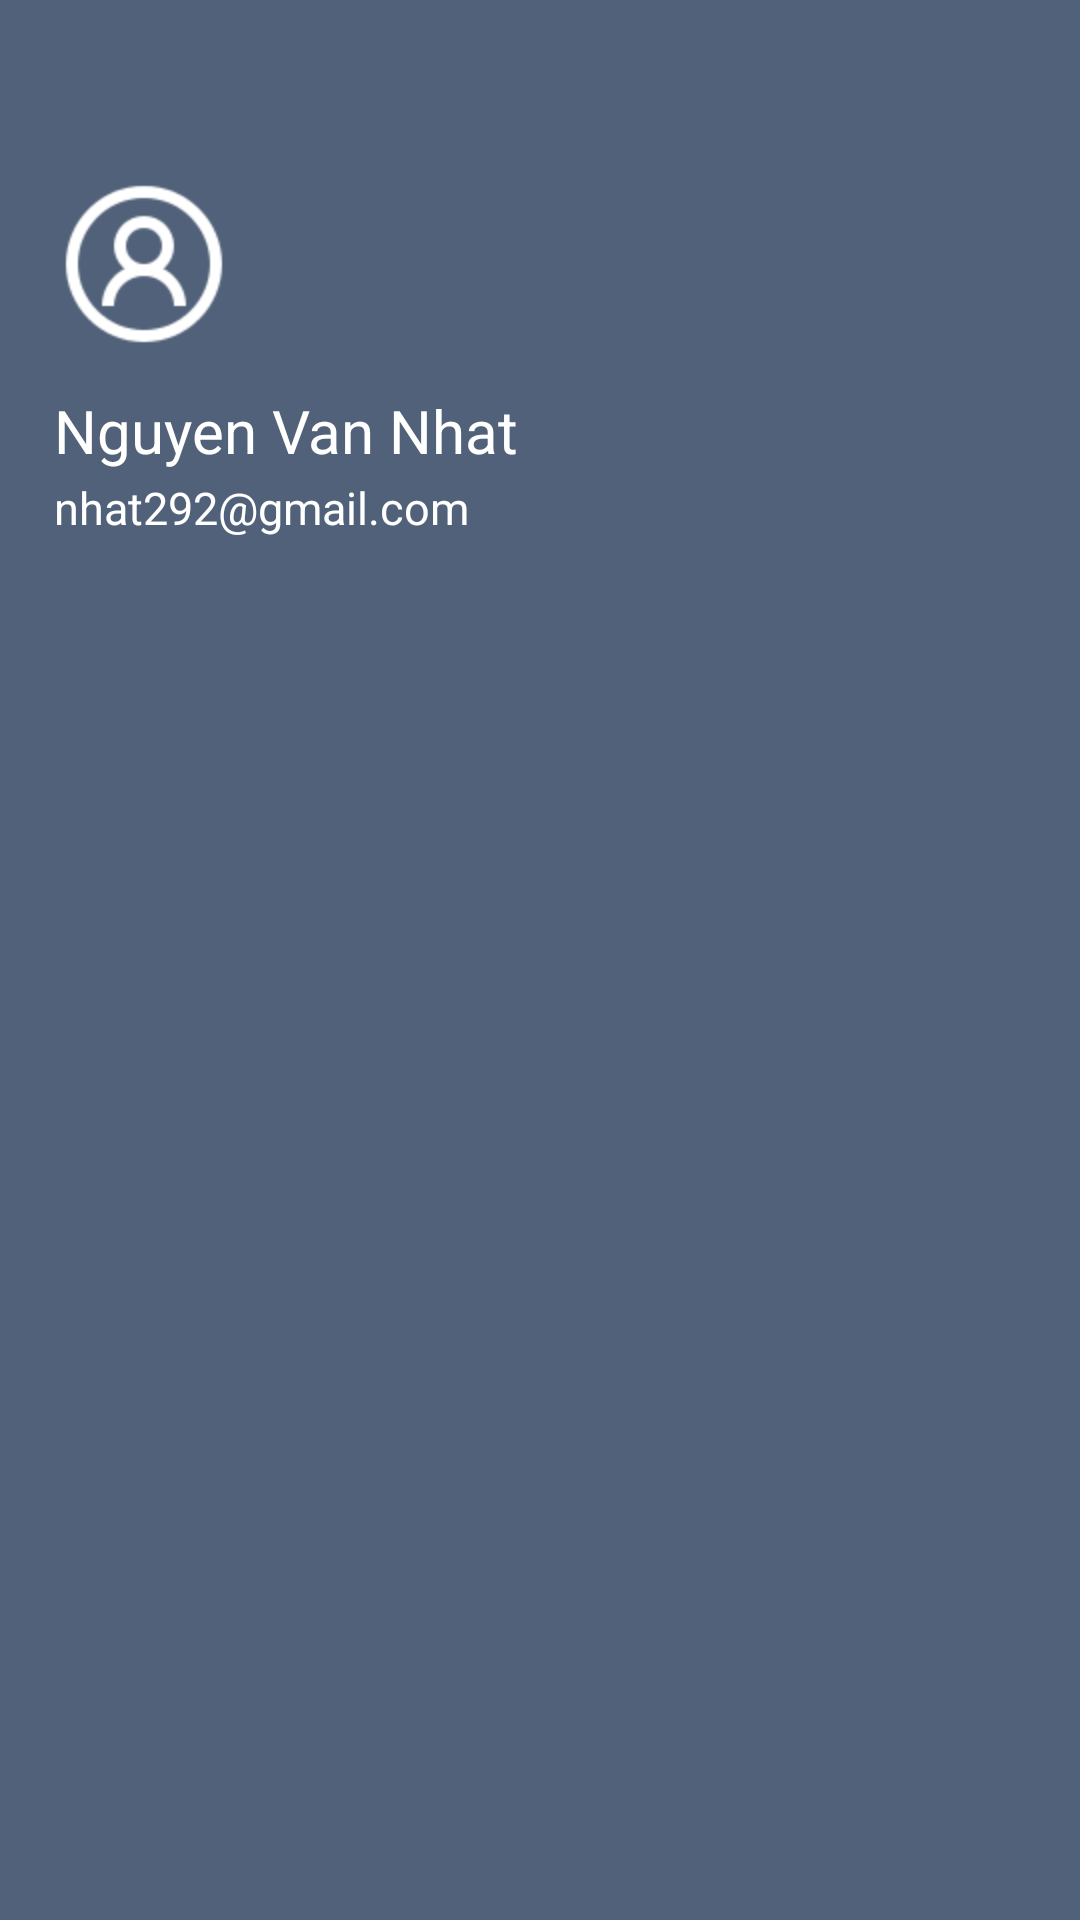

Named icons in this screenshot (1080x1920) and their bounding boxes, [left=x1, top=y1, right=x2, bottom=y2]:
account: [left=65, top=185, right=223, bottom=343]
